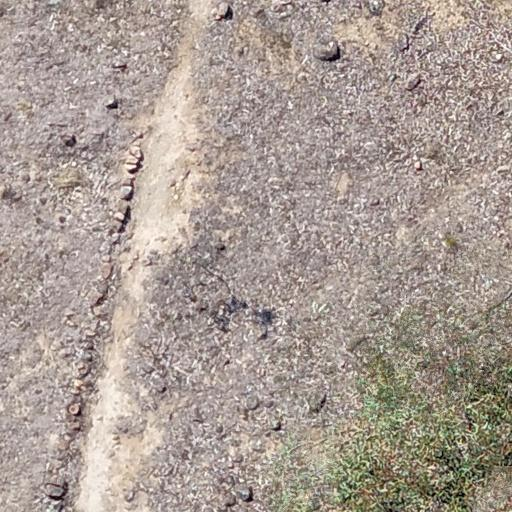stone: (312, 38, 340, 62), (44, 481, 68, 500), (402, 70, 423, 91), (90, 289, 109, 310), (150, 375, 170, 393), (214, 1, 231, 21), (310, 393, 327, 413), (54, 436, 72, 454), (241, 395, 259, 412), (125, 157, 143, 173), (105, 94, 121, 110), (66, 416, 82, 432), (67, 401, 83, 417), (60, 133, 76, 148), (191, 408, 206, 424), (139, 362, 156, 376), (129, 145, 144, 160), (121, 178, 136, 192), (238, 487, 252, 502), (120, 186, 134, 200), (76, 362, 90, 376), (58, 346, 72, 360), (122, 172, 136, 184), (124, 155, 140, 165), (82, 339, 95, 351), (117, 203, 131, 214), (83, 328, 97, 339), (112, 220, 124, 232), (72, 378, 84, 390), (102, 265, 114, 277), (277, 10, 291, 20), (114, 212, 127, 222), (271, 420, 282, 430), (101, 254, 111, 263), (65, 310, 75, 317), (232, 454, 242, 460)
